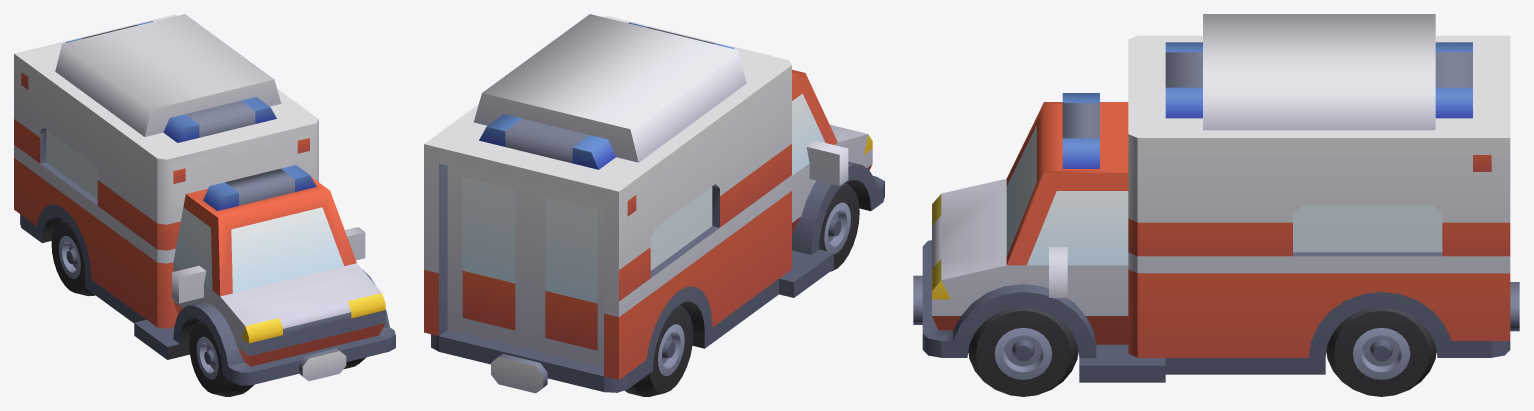
The picture shows the model from 3 angles, left to right: view 1: azimuth 30°, elevation 25°; view 2: azimuth 150°, elevation 25°; view 3: azimuth 270°, elevation 25°; orthographic projection. The views are drawn at different scales.
Parts seen in each view (by area): view 1: body, wheel-front-right, wheel-back-right; view 2: body, door-left, door-right, wheel-back-right, wheel-front-right; view 3: body, wheel-back-left, wheel-front-left.
Boxes of the visible parts, x1=… form: body: x1=14, y1=14, x2=395, y2=385; wheel-front-right: x1=189, y1=320, x2=254, y2=396; wheel-back-right: x1=51, y1=219, x2=95, y2=296; body: x1=424, y1=14, x2=884, y2=393; door-left: x1=447, y1=165, x2=530, y2=349; door-right: x1=530, y1=186, x2=603, y2=367; wheel-back-right: x1=624, y1=304, x2=693, y2=396; wheel-front-right: x1=819, y1=183, x2=859, y2=271; body: x1=913, y1=14, x2=1519, y2=382; wheel-back-left: x1=1326, y1=307, x2=1436, y2=396; wheel-front-left: x1=968, y1=307, x2=1078, y2=396.
Bounding box in the file's own units: 1.5 × 1.8 × 3.25.
1 material, 1 textured.
